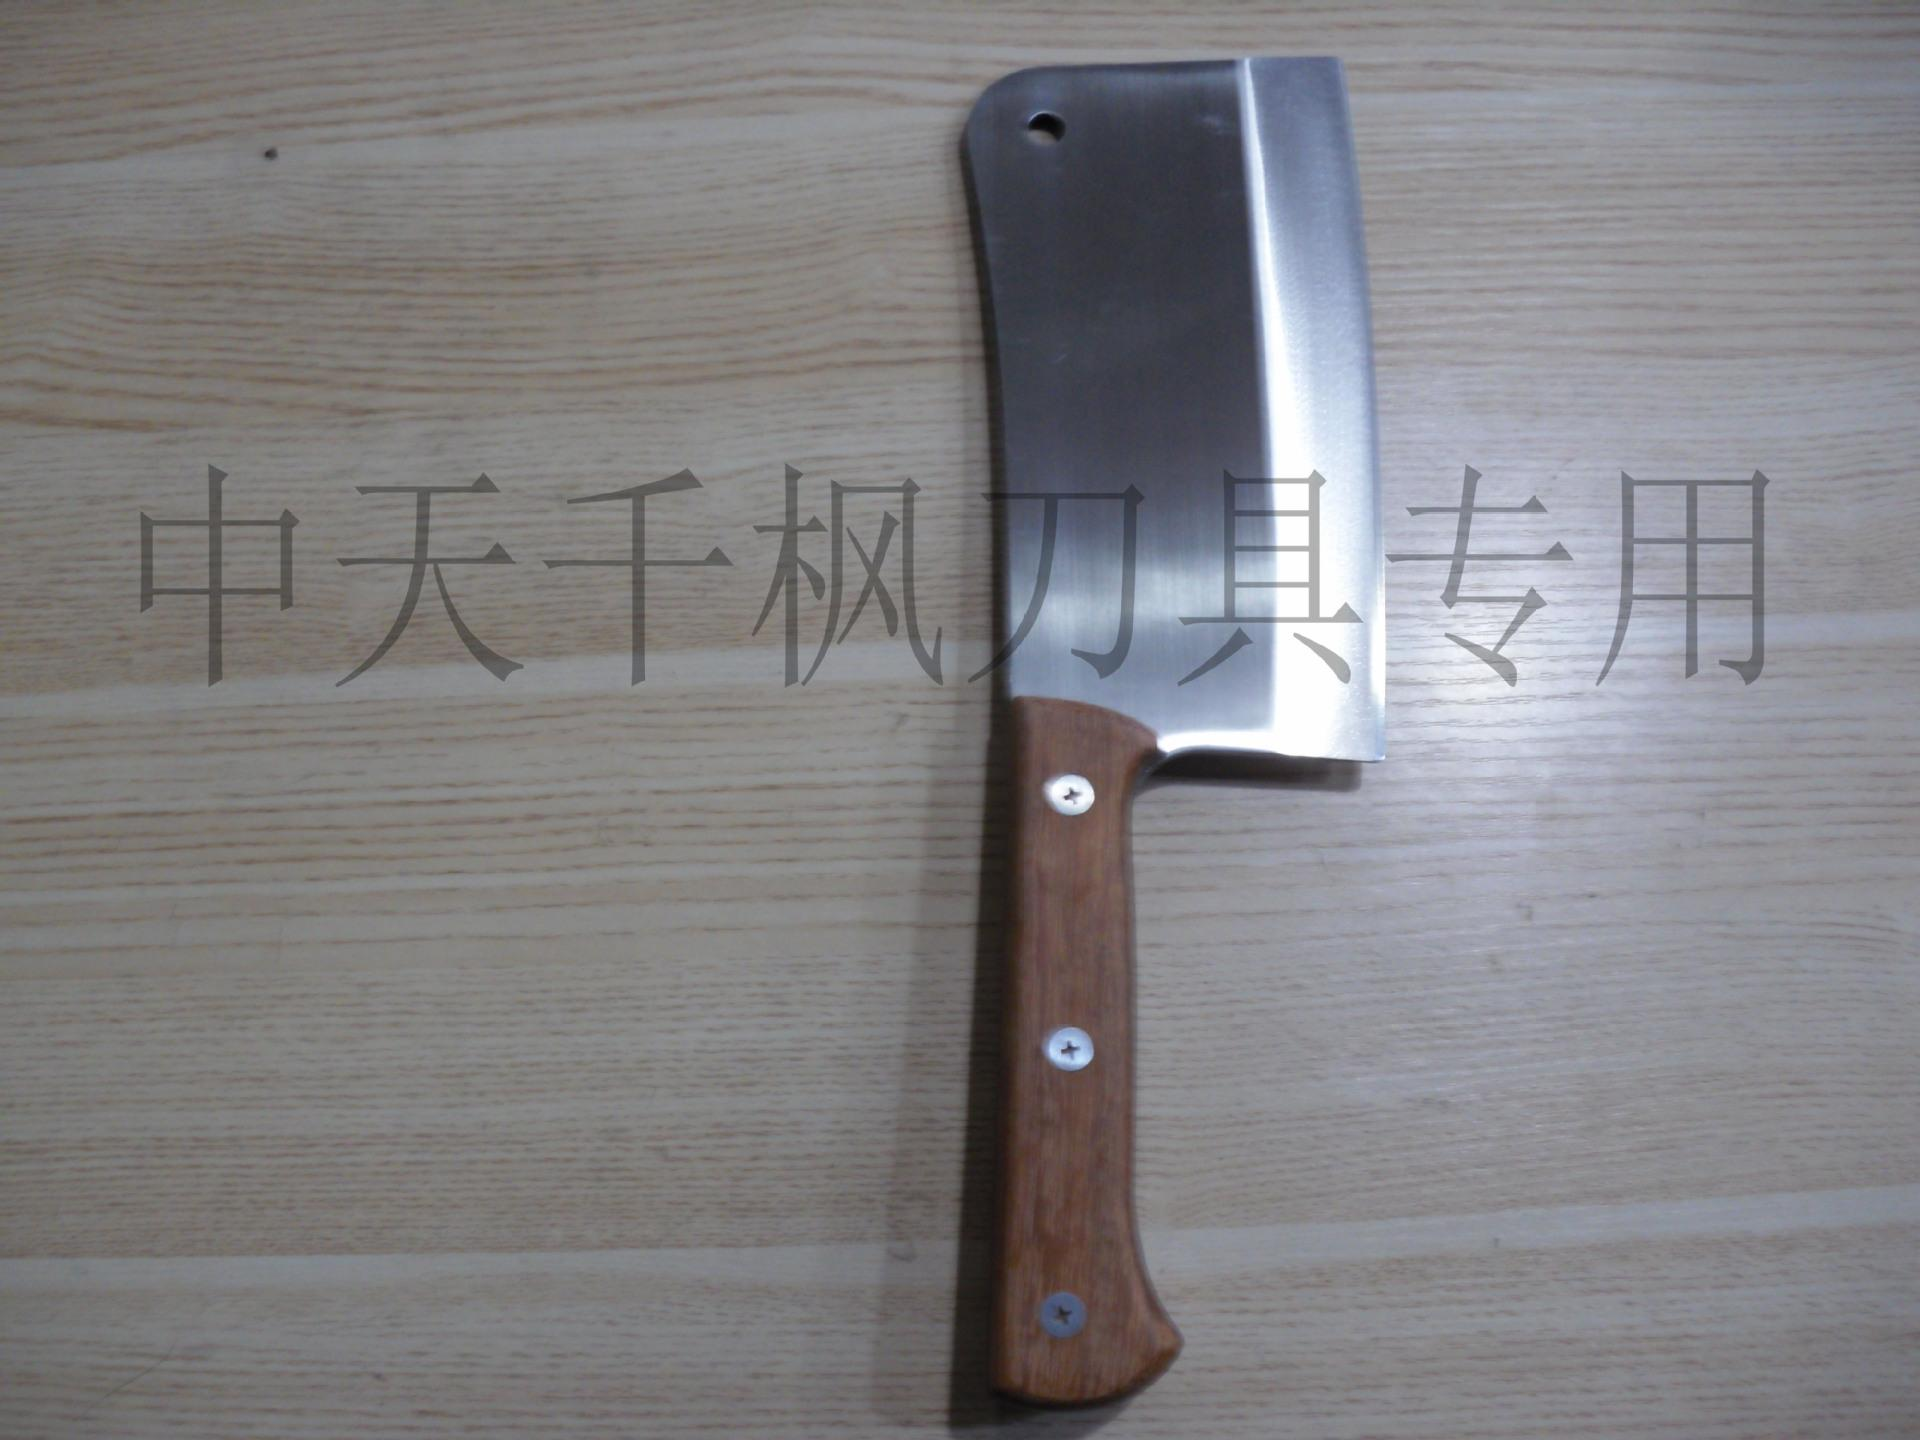knife: (841, 17, 1491, 1440)
